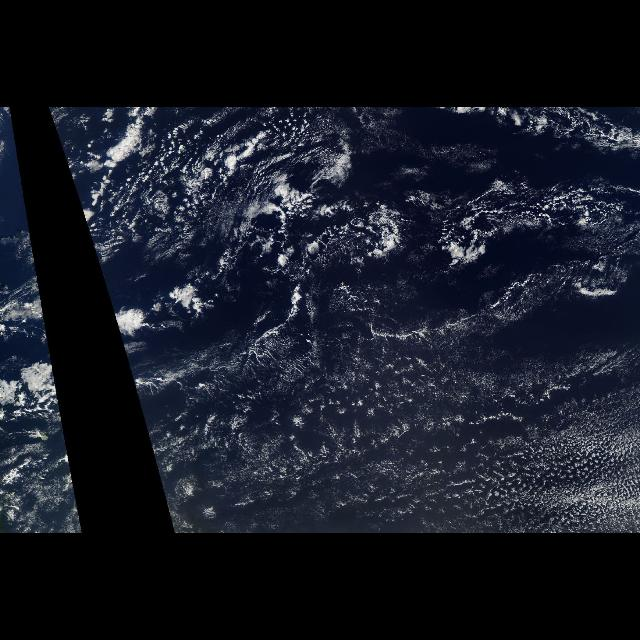Gravel: (242, 158, 628, 302)
Sugar: (189, 356, 617, 526)
